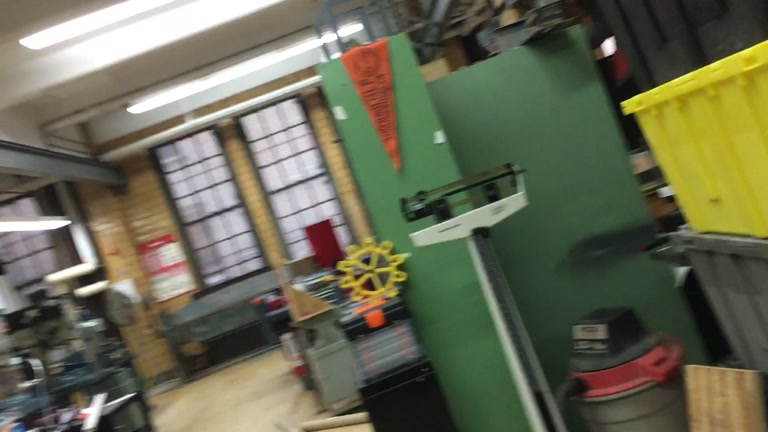gear: (336, 236, 406, 306)
